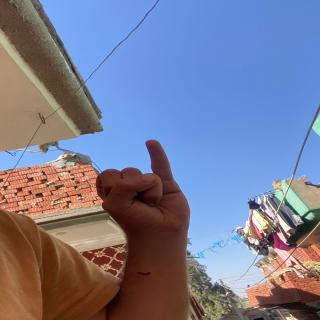MEEM: (84, 133, 210, 230)
